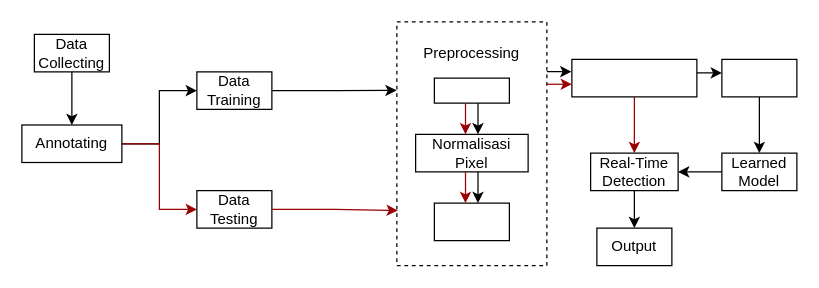
Some shapes in this 819 by 288 pixel diagram are drawn without their labels. The shapes that lost their labels are listed below. From the top down, each one's centre as x and y in pixels, then its label:
At (x=471, y=90): "Resize".
At (x=634, y=77): "Augmentation".
At (x=759, y=77): "Training".
At (x=471, y=221): "Konversi RGB".
